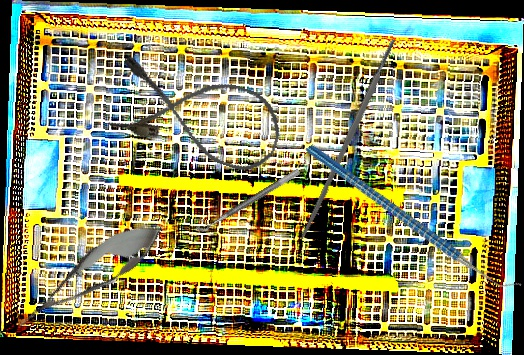Cannula: (103, 50, 291, 179)
Chopper: (305, 92, 522, 342)
Fixation Ring: (191, 160, 302, 235)
Micro Scissor: (5, 208, 173, 344)
Scalpel Handle: (298, 38, 399, 241)
